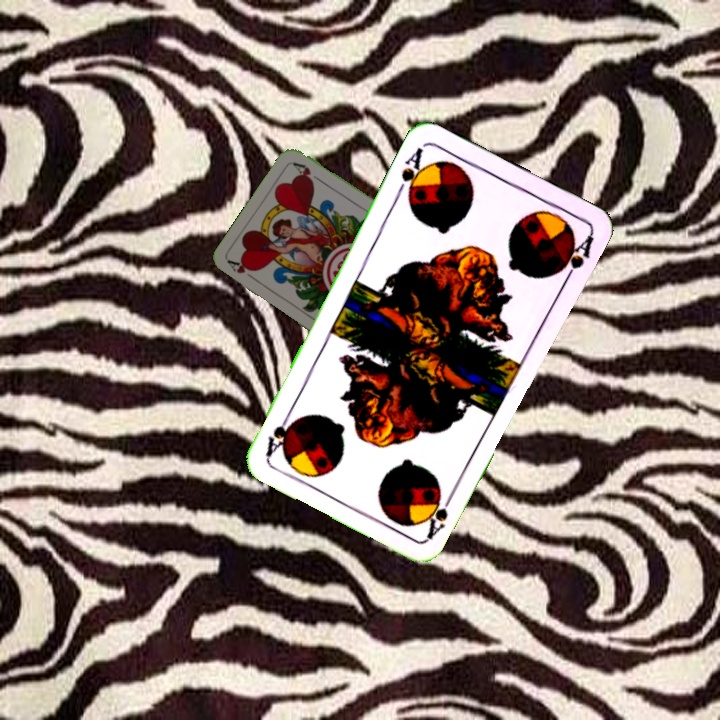HA: (225, 256, 261, 284)
SA: (392, 143, 430, 202), (422, 485, 458, 541)
